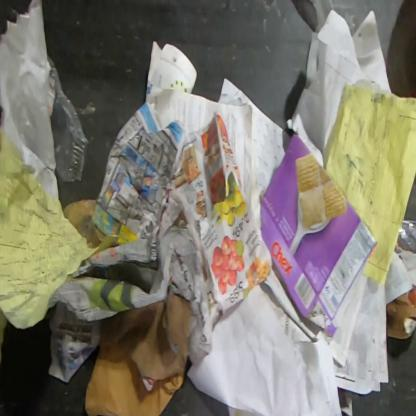cardboard: (260, 132, 380, 338), (385, 284, 415, 340)
rigid_plastic: (48, 55, 89, 184)
soft_plastic: (0, 0, 57, 172), (396, 220, 416, 254)
